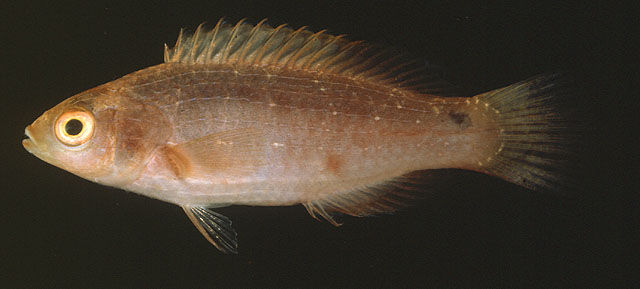fish: (21, 18, 581, 256)
